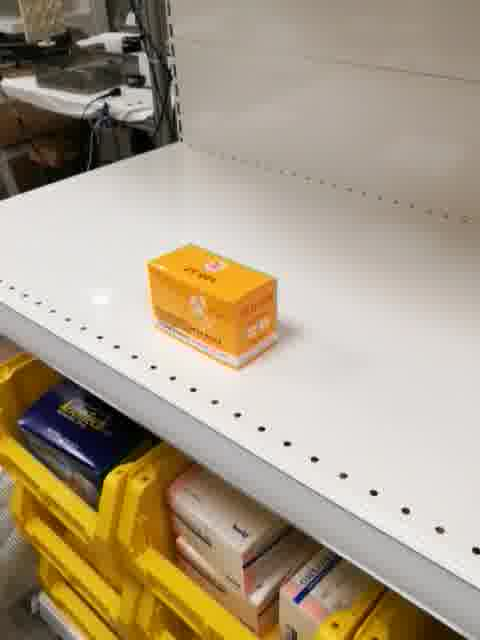jasminetea: (145, 240, 283, 374)
